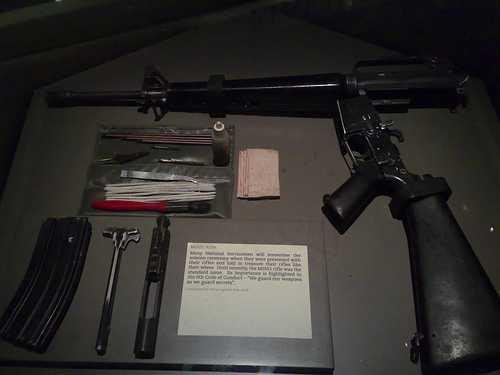heavyweapon: (44, 33, 500, 375)
